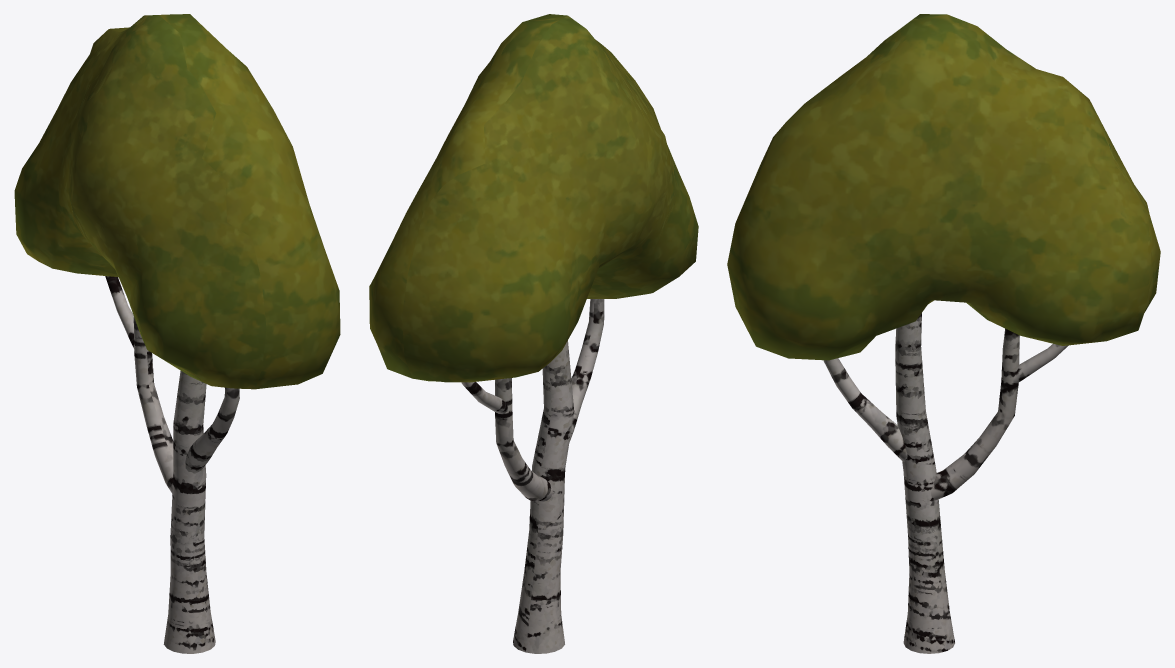
The model's file is Sm_BirchTree1.fbx.
3 renders of one model, left to right at view 1: azimuth 30°, elevation 25°; view 2: azimuth 150°, elevation 25°; view 3: azimuth 270°, elevation 25°, orthographic. The views are drawn at different scales.
Parts seen in each view (by area): view 1: Sm_BirchTree1; view 2: Sm_BirchTree1; view 3: Sm_BirchTree1.
Part boxes in pixels (<box>): Sm_BirchTree1: <box>14,14,340,653</box>; Sm_BirchTree1: <box>369,14,698,653</box>; Sm_BirchTree1: <box>727,14,1160,653</box>.
Size of the model in its own units: 175 by 525 by 334.
